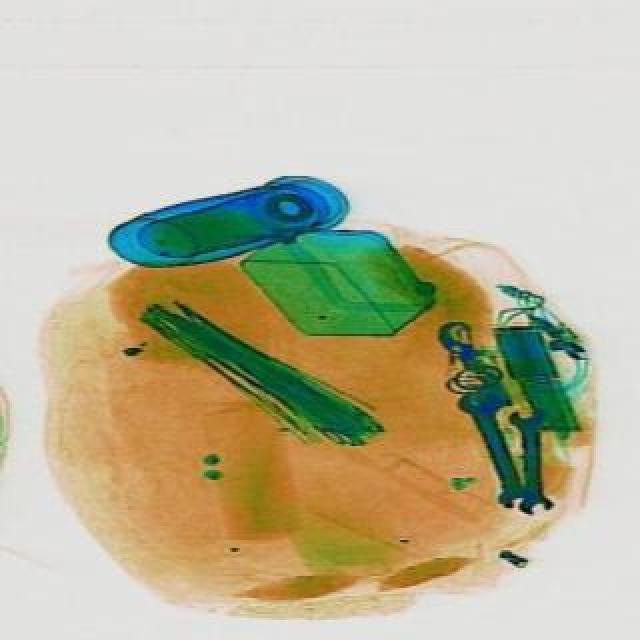scissors: (450, 384, 536, 512), (502, 402, 554, 516)
